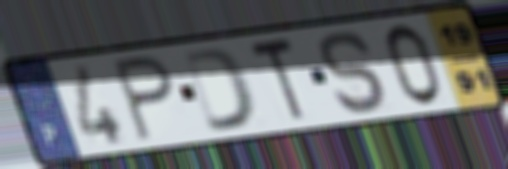0: (386, 21, 446, 108)
4: (73, 62, 126, 147)
D: (179, 45, 260, 135)
P: (109, 52, 177, 145)
S: (317, 28, 393, 116)
T: (246, 34, 309, 127)
